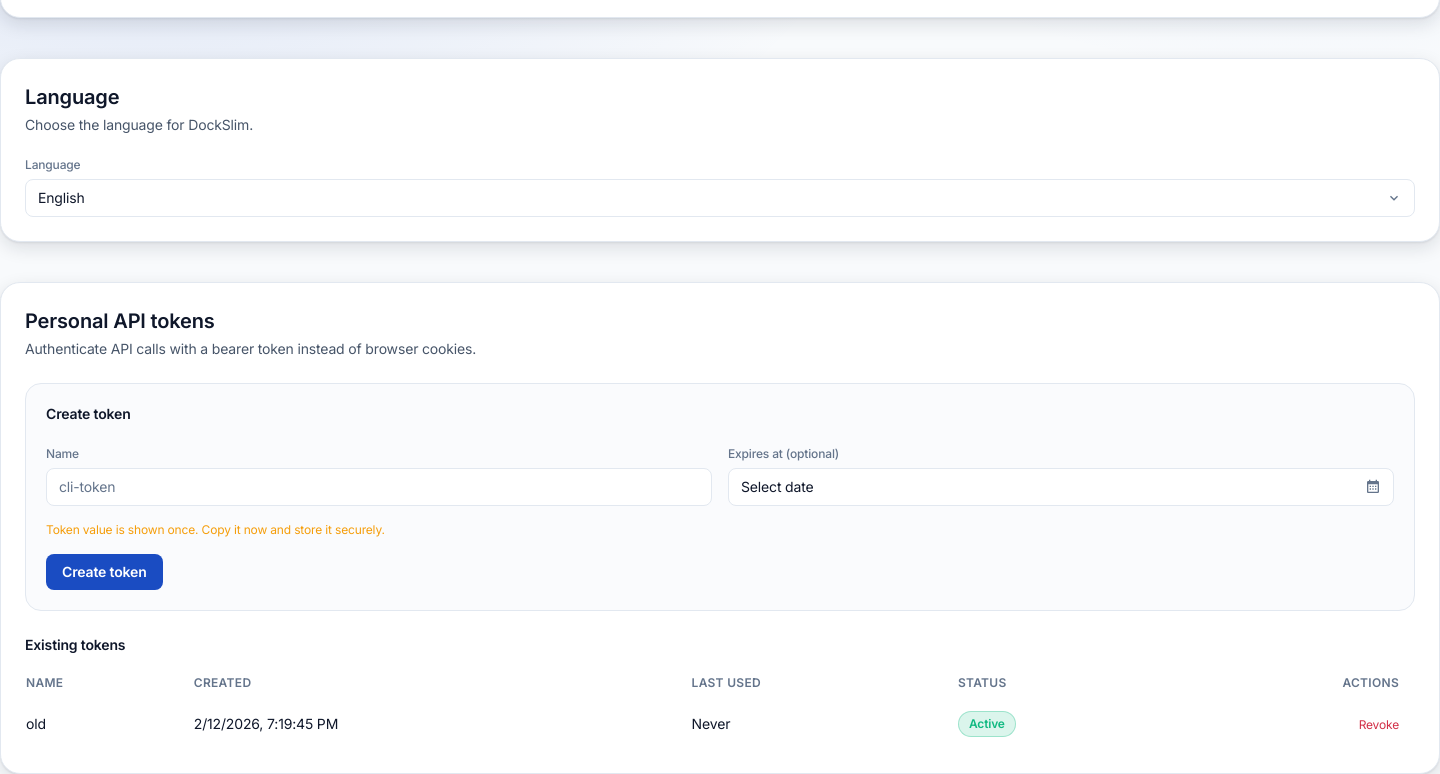
Scenario: AccountSettingsView › creates and revokes a token
(page scrolled)
Type "cli" into the field with test id "token-name-input" at (379, 487), box [46,468,712,506]
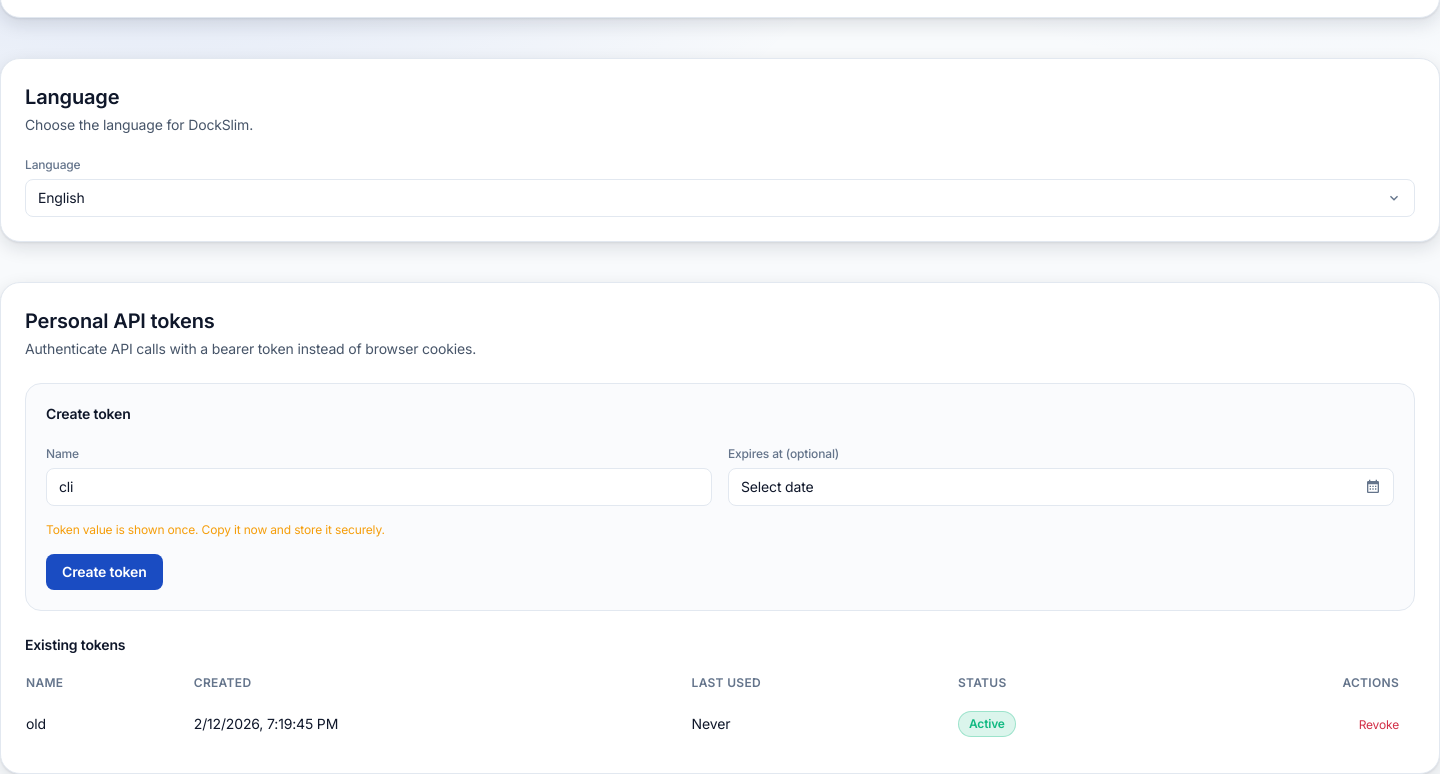
Click the button with test id "create-token-button" at (104, 572), box [46,554,162,590]
(page scrolled)
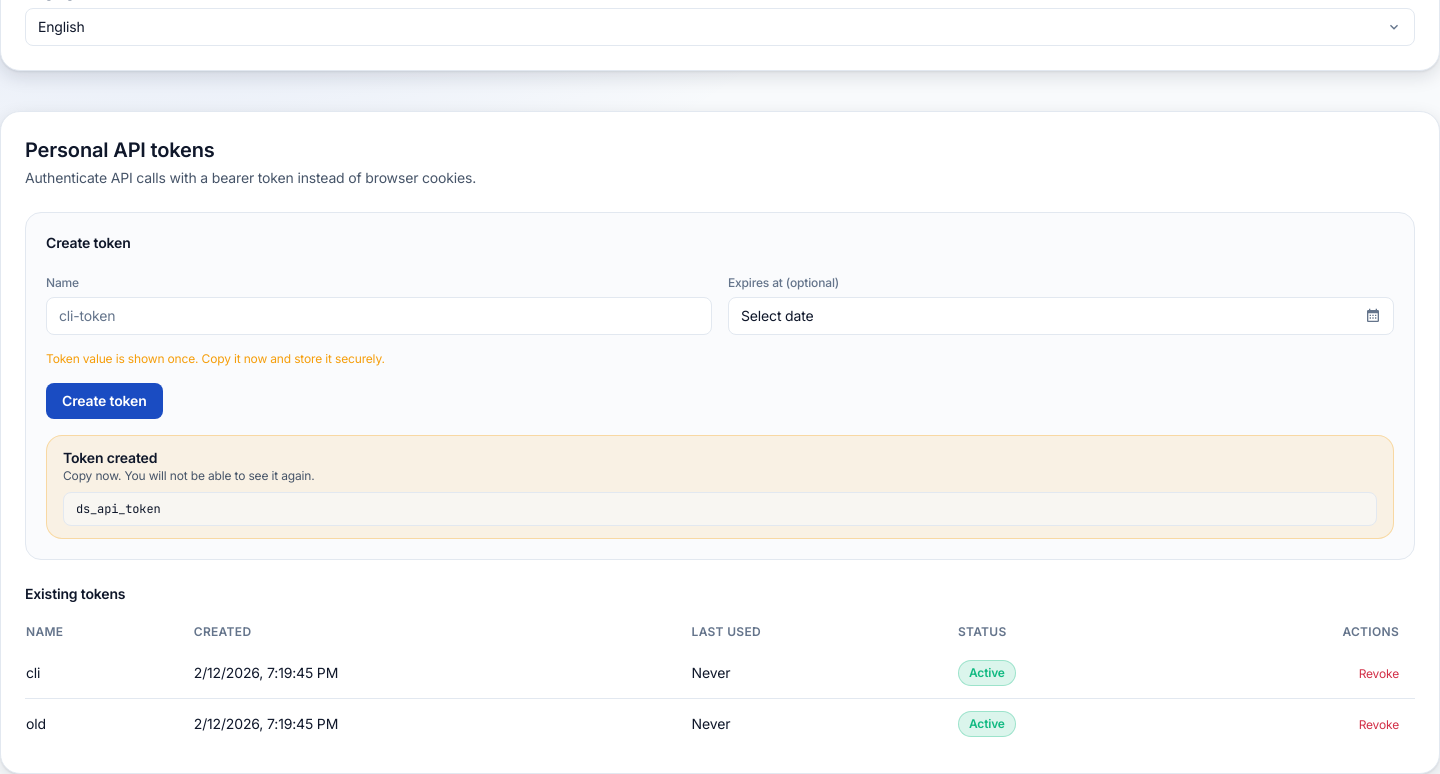
Expected: the text "ds_api_token" is shown, [63,492,1377,526]
Click the button with test id "revoke-token-tok-1" at (1379, 725), box [1359,717,1399,733]
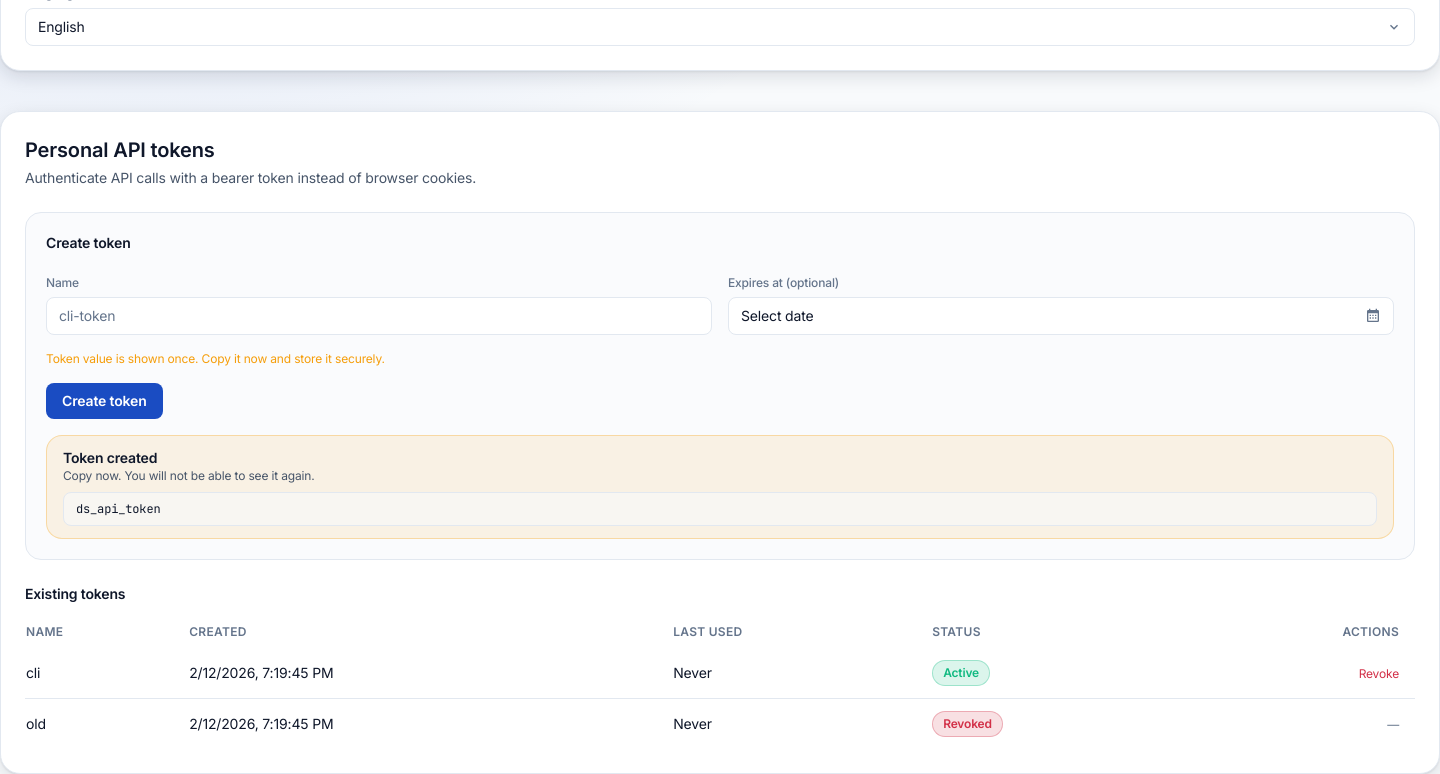
Expected: the text "Revoked" is shown, [932,711,1003,737]
